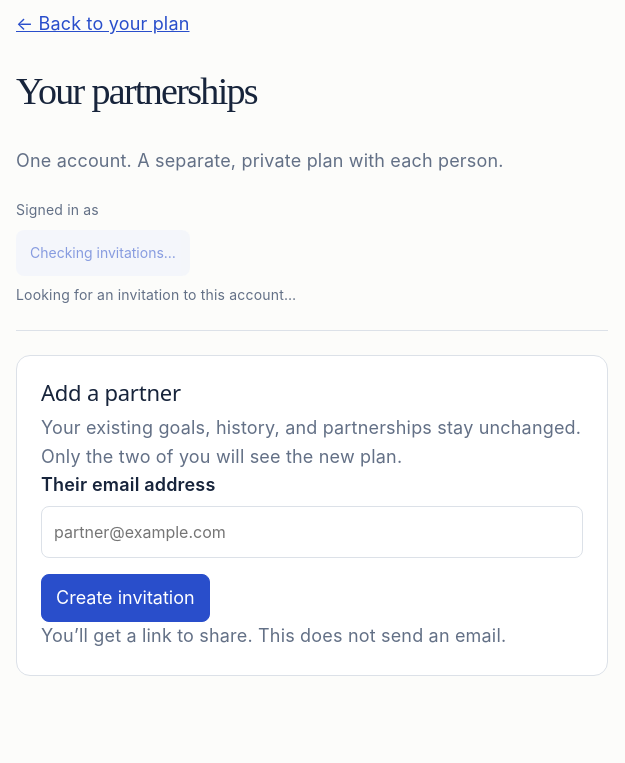
Test: adding a partner creates a separate invitation without selecting or moving an existing plan
Type "friend@example.com" into the field labelled "Their email address" at (312, 532), box [41,506,583,558]
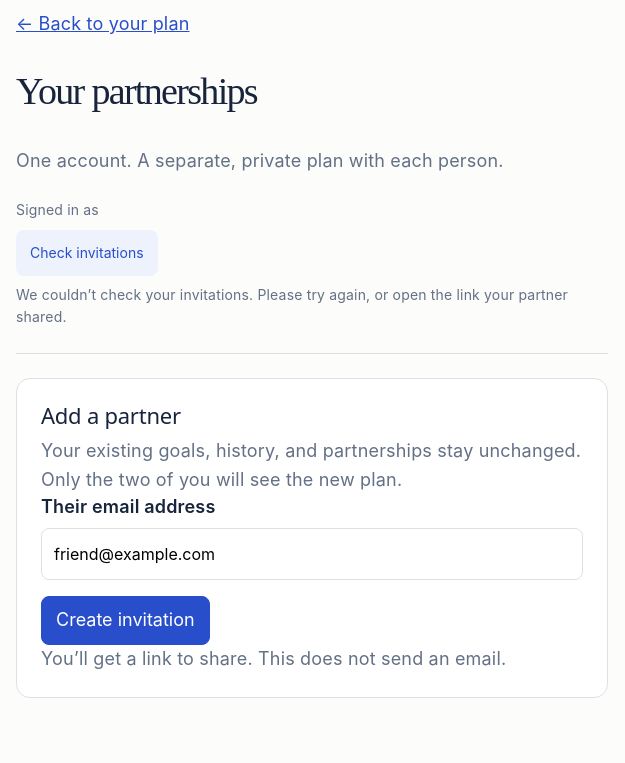
Click the button "Create invitation" at (125, 621), box [41,596,210,645]
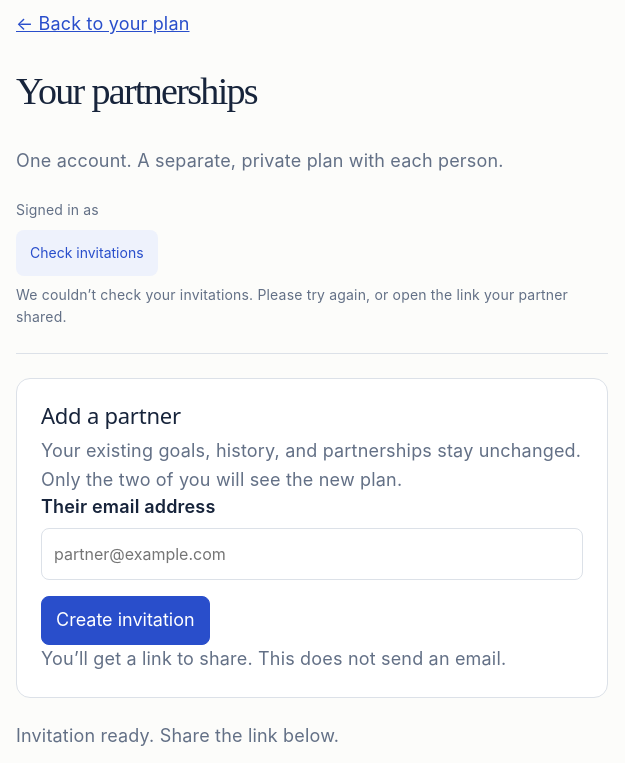
Now the text "Invitation ready. Share the link below." is shown, box [16,725,339,746]
